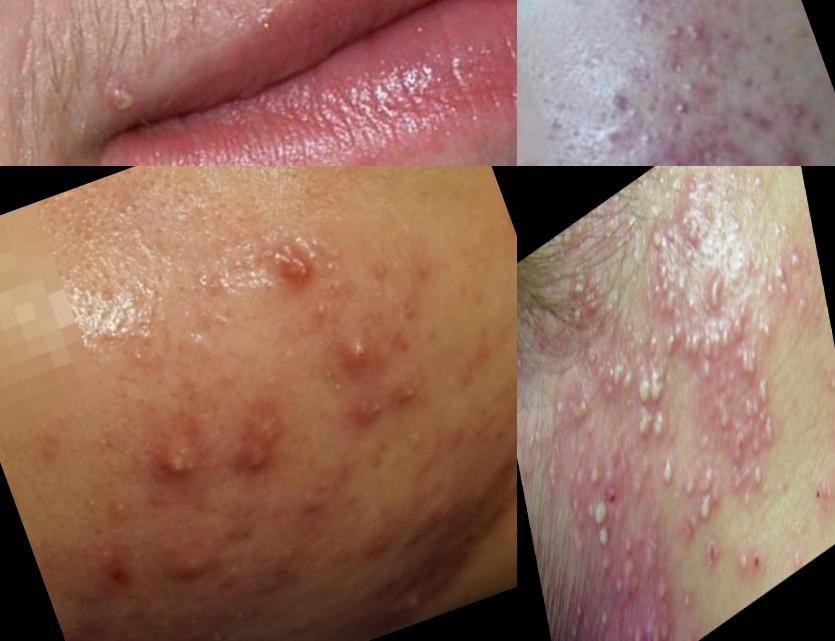folliculitis: (607, 565, 629, 608)
papular: (353, 524, 413, 584), (279, 484, 343, 530), (158, 543, 213, 596), (759, 140, 829, 167), (781, 229, 810, 290), (673, 575, 702, 631), (809, 464, 835, 526), (785, 532, 810, 577), (555, 224, 580, 265), (824, 406, 835, 457), (822, 362, 835, 405)
purulent: (84, 68, 146, 131), (739, 402, 786, 477), (562, 254, 601, 338), (563, 376, 604, 445), (340, 330, 384, 388), (543, 374, 576, 436), (652, 441, 685, 502), (606, 344, 639, 405), (768, 249, 800, 309), (647, 210, 680, 268), (678, 202, 708, 263), (673, 503, 705, 560), (524, 405, 554, 463), (539, 452, 568, 509), (789, 274, 816, 333), (695, 448, 724, 502), (755, 300, 782, 357), (710, 390, 738, 443), (747, 448, 774, 502), (651, 246, 678, 297), (582, 447, 609, 498), (657, 282, 685, 331), (630, 406, 656, 457), (589, 489, 615, 539), (677, 462, 704, 510), (693, 485, 718, 534), (589, 599, 617, 641), (592, 518, 617, 564), (647, 402, 672, 447), (733, 542, 757, 587), (704, 272, 728, 316), (696, 350, 720, 394)
sebo-crystan-conglo: (246, 234, 327, 315), (131, 425, 211, 499), (227, 409, 296, 480), (696, 294, 757, 371), (664, 306, 706, 378), (735, 365, 779, 431), (631, 362, 671, 423), (626, 596, 674, 641), (733, 331, 768, 390), (615, 518, 642, 569), (592, 619, 636, 641)
whitehead: (621, 124, 673, 164), (661, 94, 705, 128), (669, 68, 705, 105), (661, 17, 692, 45), (624, 10, 649, 35)
